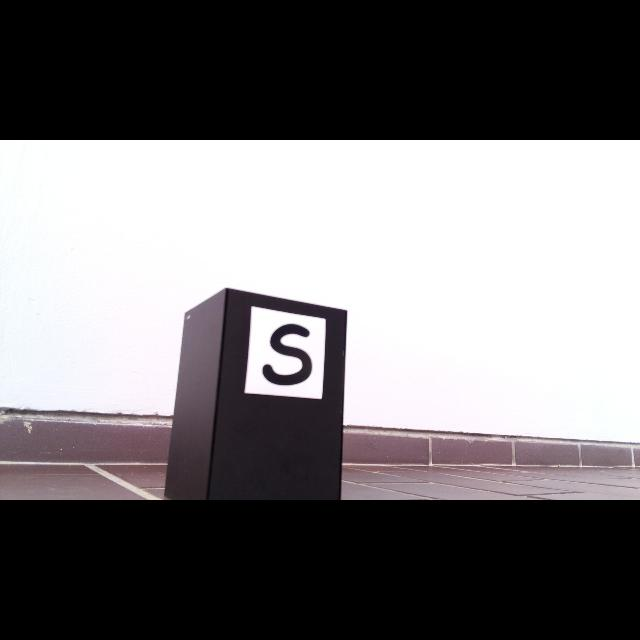S: (261, 324, 313, 386)
